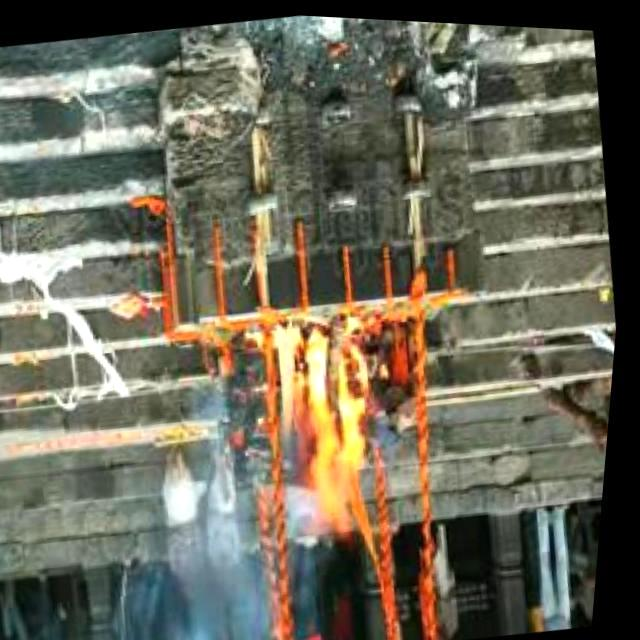fire: (264, 295, 404, 517)
